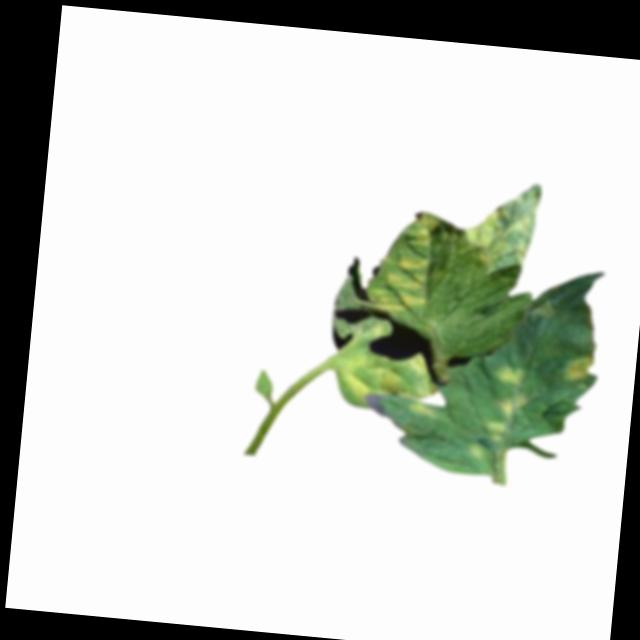Leaf_Mold: (331, 344, 439, 421), (361, 208, 437, 316), (458, 174, 541, 272), (471, 361, 528, 468), (559, 348, 594, 383)
